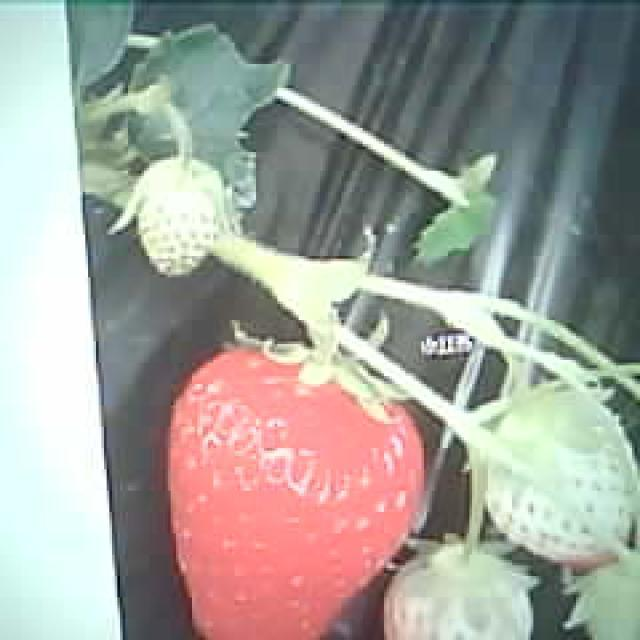ripe: (168, 344, 424, 640)
unripe: (482, 386, 636, 562), (137, 154, 223, 275)
